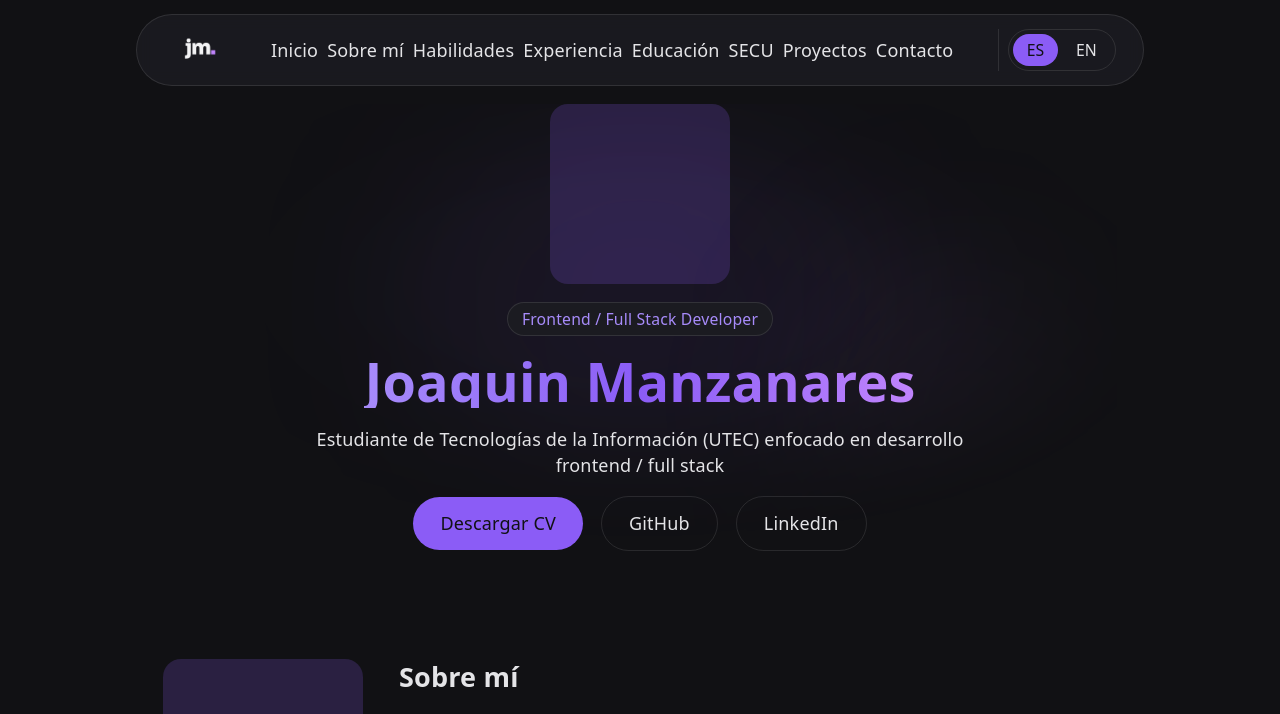
Test: App › swaps all section content to English when the EN toggle is clicked
Check: the heading "Sobre mí" is shown, box 399,658 -> 519,695
Click the button "EN" at (1086, 50), box 1062,34 -> 1110,66
(page scrolled)
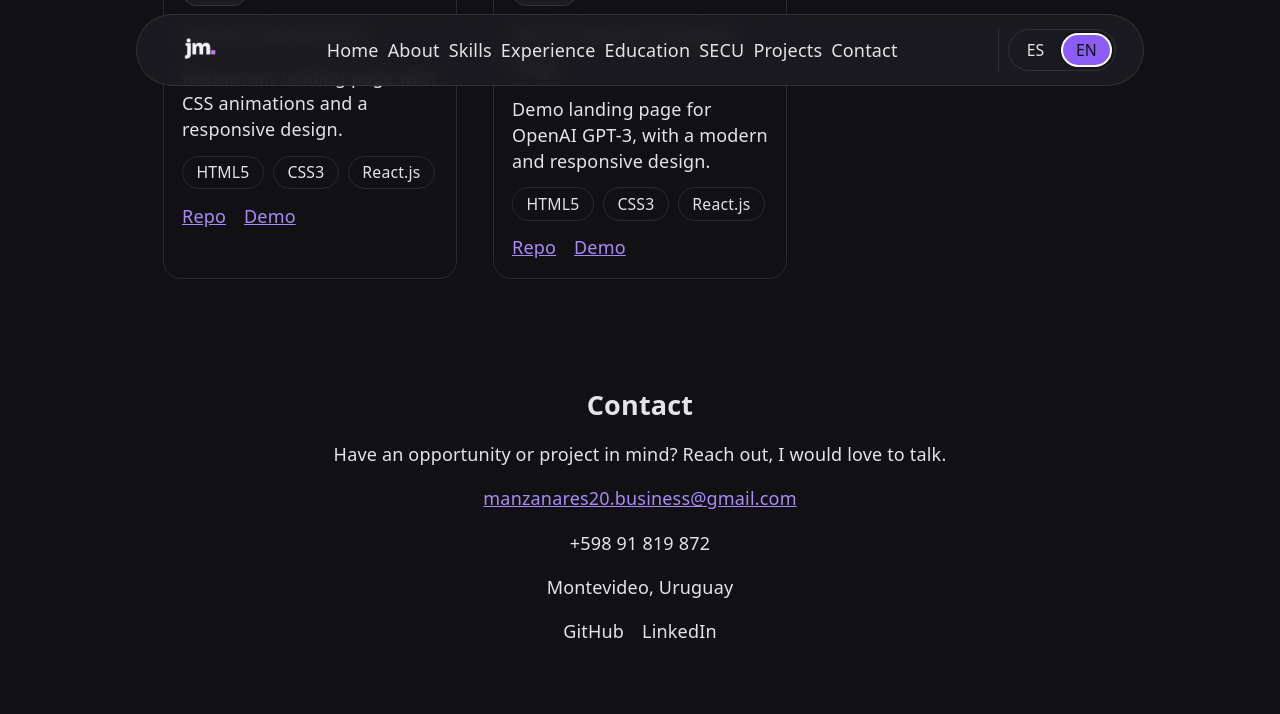
Check: the heading "Contact" is shown, box 587,387 -> 693,423
Check: the link "Sobre mí" is gone
